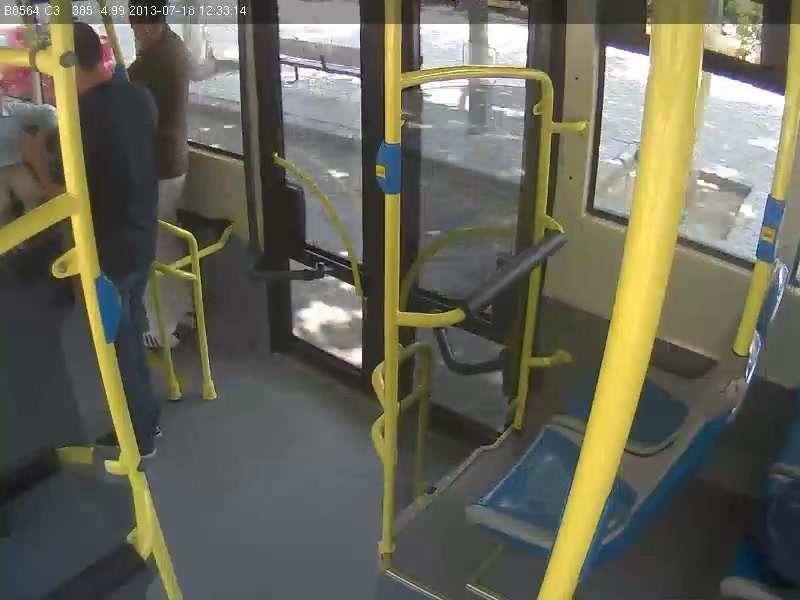Head: (66, 16, 115, 105), (125, 0, 175, 52)
